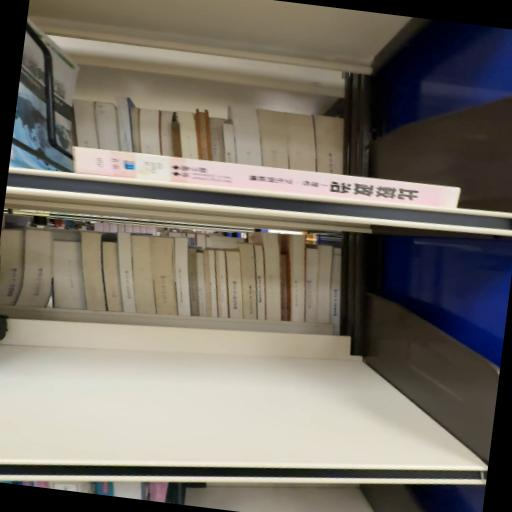flat: (74, 148, 461, 209)
